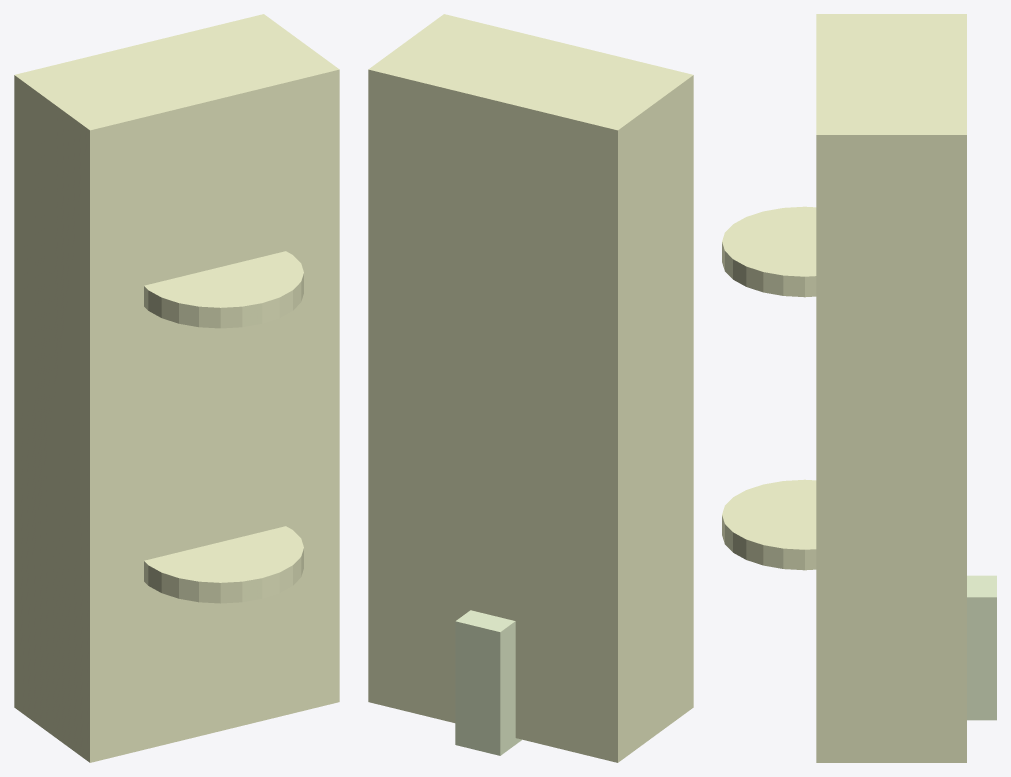
Rendered from signal_school_warning_dual_amber_vertical.glb.
The picture shows the model from 3 angles, left to right: view 1: azimuth 30°, elevation 25°; view 2: azimuth 150°, elevation 25°; view 3: azimuth 270°, elevation 25°; orthographic projection.
Visible parts, largest first — view 1: housing, lens_school_lower, lens_school_upper; view 2: housing, bracket; view 3: housing, lens_school_upper, lens_school_lower, bracket.
Part boxes in pixels (box(x1,y1,x2,y2)): housing: box(14, 14, 339, 762); lens_school_lower: box(144, 526, 303, 603); lens_school_upper: box(144, 251, 303, 328); housing: box(368, 14, 693, 762); bracket: box(455, 610, 521, 755); housing: box(816, 14, 966, 762); lens_school_upper: box(722, 206, 816, 297); lens_school_lower: box(722, 479, 816, 570); bracket: box(967, 575, 996, 720).
Size of the model in its own units: 0.38 by 0.93 by 0.365.
